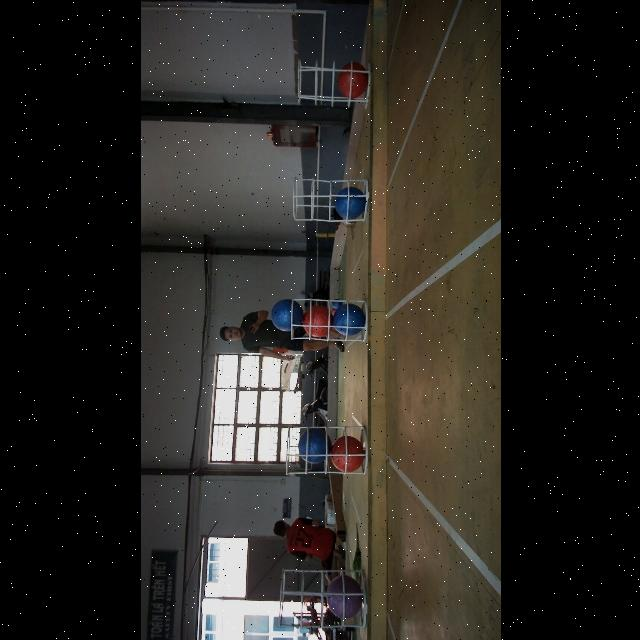B: (297, 426, 329, 464), (270, 298, 302, 332), (332, 303, 364, 337), (334, 185, 366, 219)
R: (329, 435, 363, 471), (338, 62, 366, 98), (304, 304, 332, 338)
